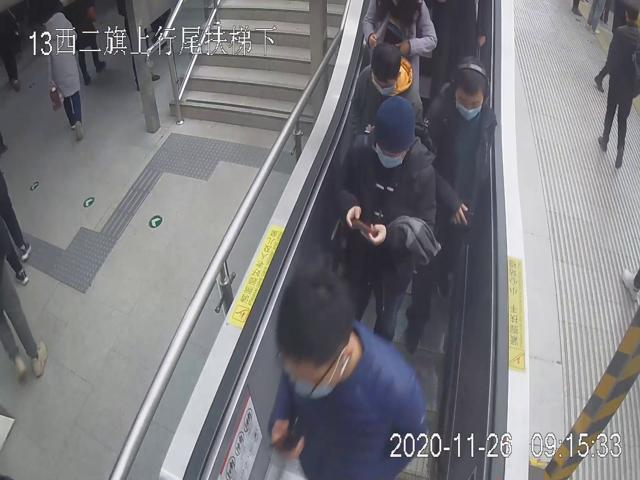person: (266, 267, 431, 479), (329, 88, 435, 344), (422, 55, 497, 260), (346, 40, 423, 144)
